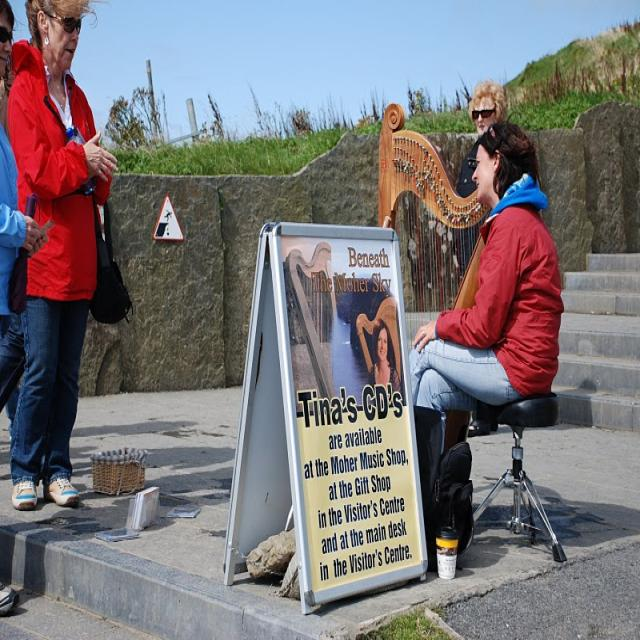harp: (371, 102, 502, 356)
